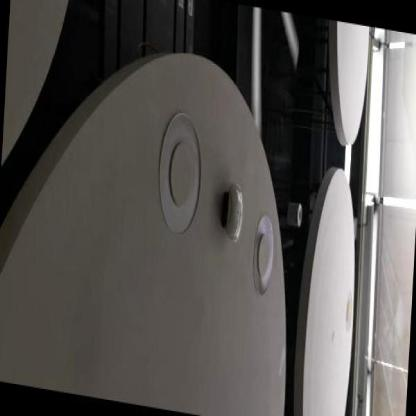light_off: (142, 83, 212, 253), (246, 189, 280, 306)
